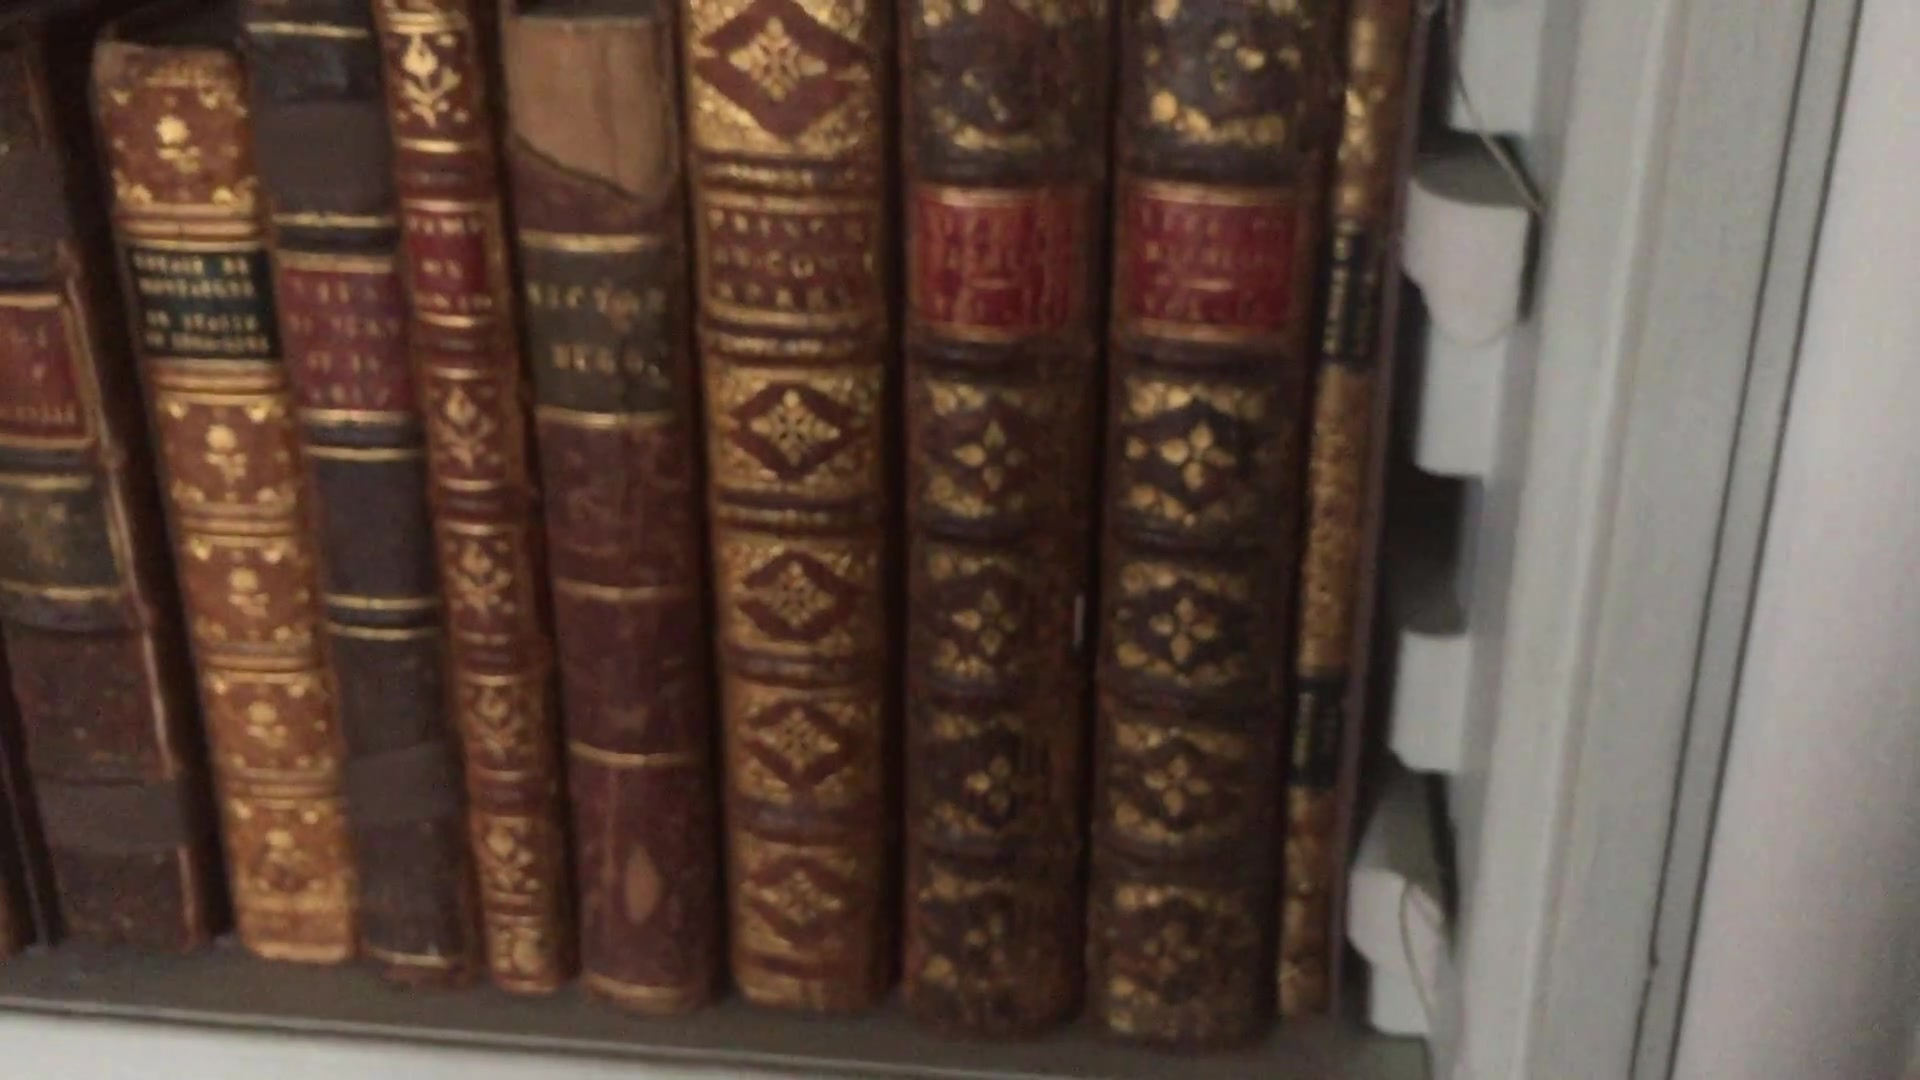Aa6-41: (65, 26, 360, 996)
Aa6-42: (243, 12, 498, 1014)
Aa6-43: (368, 3, 570, 986)
Aa6-44: (480, 7, 741, 1044)
Aa6-45: (680, 9, 909, 1027)
Aa6-46-47: (897, 3, 1275, 1065)
Aa6-48: (1309, 12, 1394, 1080)
